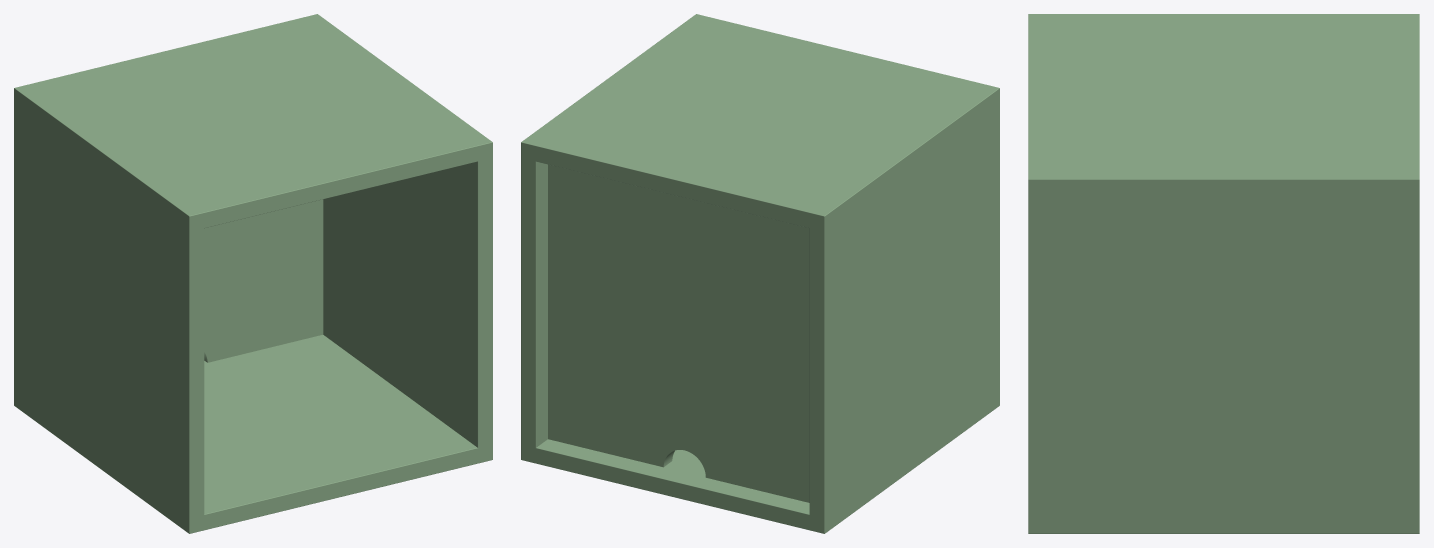
The model's file is MOD-1X1-A-B-AP-SA.glb.
3 renders of one model, left to right at view 1: azimuth 30°, elevation 25°; view 2: azimuth 150°, elevation 25°; view 3: azimuth 270°, elevation 25°, orthographic. The views are drawn at different scales.
Bounding box in the file's own units: 360 × 360 × 360.
